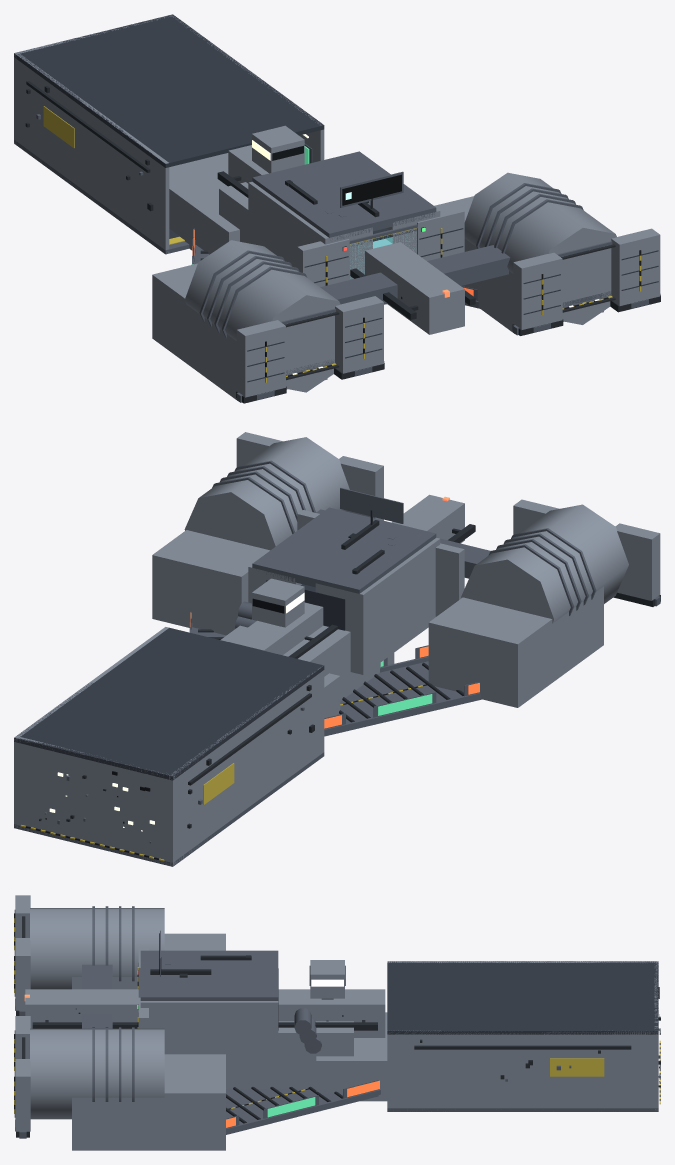
The model's file is cradle-l.glb.
3 views of the same model, one above another, from view 1: azimuth 30°, elevation 25°; view 2: azimuth 150°, elevation 25°; view 3: azimuth 270°, elevation 25° (orthographic). The views are drawn at different scales.
Parts seen in each view (by area): view 1: hallRoof, hallWallL, lightTubeL, lightTubeR, transferLiftShaft (×3), hangarRoof, spine, hallApron, hangarShellL, berthSMRDoorHouseL, berthSMRDoorHouseR, berthSMLDoorHouseL (+13 smaller); view 2: transferLiftShaft (×3), hallRoof, hallBackWall, hallWallL, lightTubeL, lightTubeR, hangarRoof, hangarShellL, spine, transferMainBed, berthSMLDoorHouseL, berthLBlastHouseL (+15 smaller); view 3: hallRoof, hallWallR, transferLiftShaft (×3), lightTubeR, lightTubeL, hangarShellR, spine, hangarRoof, hallApron, transferMainBed, controlCab, berthSMRDoorHouseR (+14 smaller).
Part boxes in pixels (left/top/right/bottom): hallRoof: left=14, top=14, right=324, bottom=167; hallWallL: left=14, top=52, right=169, bottom=253; lightTubeL: left=184, top=240, right=340, bottom=392; lightTubeR: left=464, top=172, right=616, bottom=324; transferLiftShaft (×3): left=152, top=182, right=603, bottom=400; hangarRoof: left=252, top=151, right=436, bottom=240; spine: left=228, top=145, right=464, bottom=334; hallApron: left=169, top=153, right=239, bottom=254; hangarShellL: left=248, top=181, right=372, bottom=279; berthSMRDoorHouseL: left=513, top=252, right=562, bottom=329; berthSMRDoorHouseR: left=611, top=228, right=660, bottom=306; berthSMLDoorHouseL: left=236, top=320, right=285, bottom=397; transferLiftShaft (×3): left=152, top=530, right=603, bottom=707; hallRoof: left=14, top=627, right=324, bottom=780; hallBackWall: left=14, top=736, right=175, bottom=866; hallWallL: left=169, top=666, right=324, bottom=866; lightTubeL: left=461, top=504, right=628, bottom=623; lightTubeR: left=184, top=437, right=349, bottom=550; hangarRoof: left=252, top=507, right=436, bottom=593; hangarShellL: left=315, top=537, right=440, bottom=674; spine: left=228, top=494, right=464, bottom=655; transferMainBed: left=324, top=661, right=481, bottom=736; berthSMLDoorHouseL: left=615, top=523, right=660, bottom=600; berthLBlastHouseL: left=435, top=543, right=464, bottom=616; hallRoof: left=387, top=961, right=658, bottom=1034; hallWallR: left=387, top=1030, right=658, bottom=1111; transferLiftShaft (×3): left=72, top=933, right=353, bottom=1150; lightTubeR: left=30, top=1028, right=164, bottom=1119; lightTubeL: left=30, top=908, right=164, bottom=989; hangarShellR: left=140, top=1001, right=278, bottom=1074; spine: left=25, top=989, right=385, bottom=1037; hangarRoof: left=140, top=950, right=278, bottom=1000; hallApron: left=316, top=1012, right=387, bottom=1101; transferMainBed: left=226, top=1089, right=378, bottom=1134; controlCab: left=310, top=960, right=344, bottom=998; berthSMRDoorHouseR: left=15, top=1059, right=30, bottom=1131.
Bounding box in the file's own units: 42.59 × 14.37 × 63.49.
